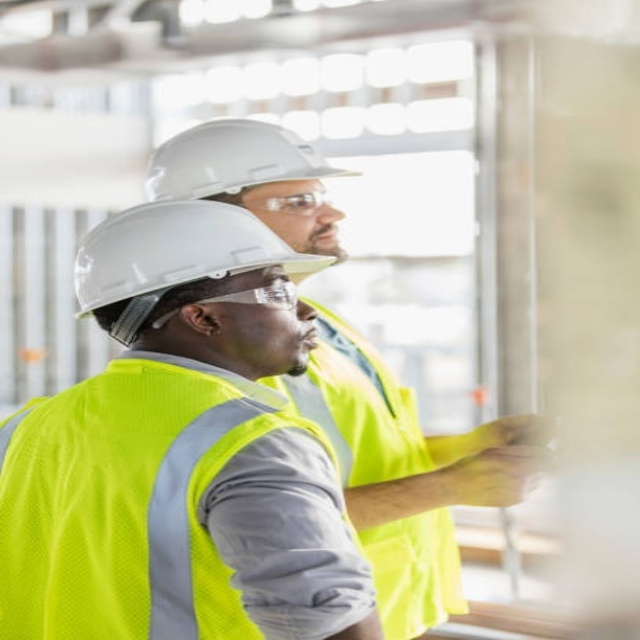Gafas: (155, 278, 301, 327), (242, 187, 336, 215)
Sin_guantes: (425, 442, 559, 510)
Sin_mascara: (265, 320, 322, 370), (301, 222, 344, 261)
